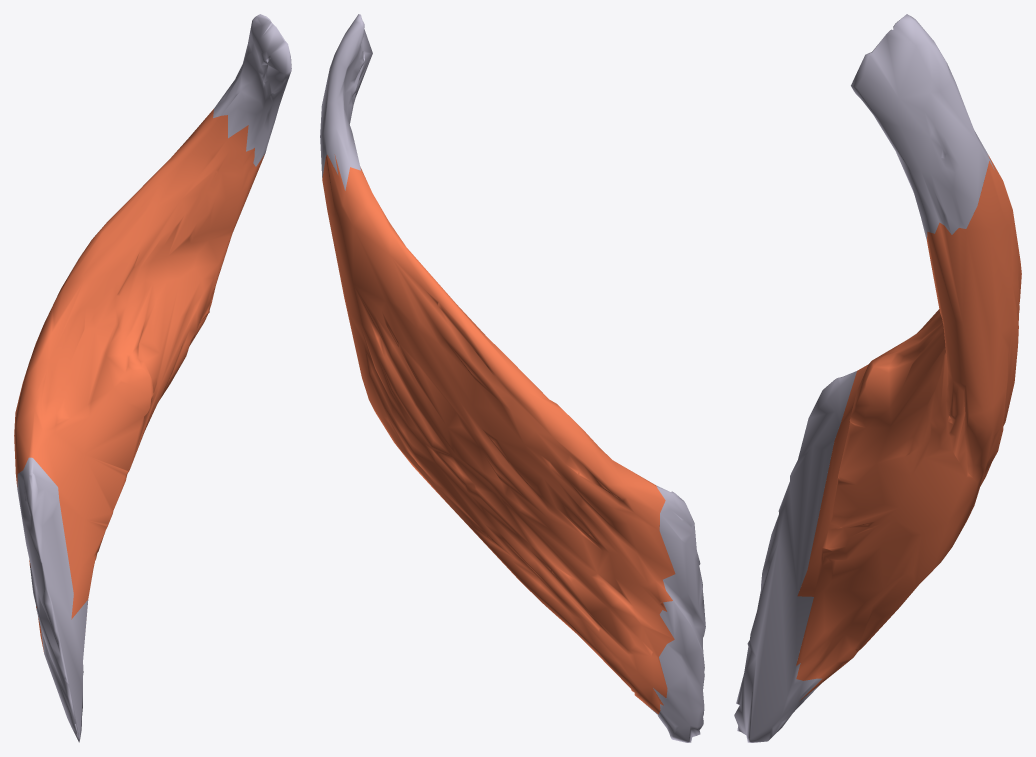
Rendered from Popliteus_left.glb.
3 renders of one model, left to right at view 1: azimuth 30°, elevation 25°; view 2: azimuth 150°, elevation 25°; view 3: azimuth 270°, elevation 25°, orthographic. The views are drawn at different scales.
Visible parts, largest first — view 1: Popliteus_muscle.l_Generated_Mesh_From_X3D.290; view 2: Popliteus_muscle.l_Generated_Mesh_From_X3D.290; view 3: Popliteus_muscle.l_Generated_Mesh_From_X3D.290.
Part boxes in pixels (x1,y1,x2,y2): Popliteus_muscle.l_Generated_Mesh_From_X3D.290: (14,14,291,742); Popliteus_muscle.l_Generated_Mesh_From_X3D.290: (320,14,705,742); Popliteus_muscle.l_Generated_Mesh_From_X3D.290: (734,14,1021,742).
Bounding box in the file's own units: 0.0592 × 0.1251 × 0.0365.
